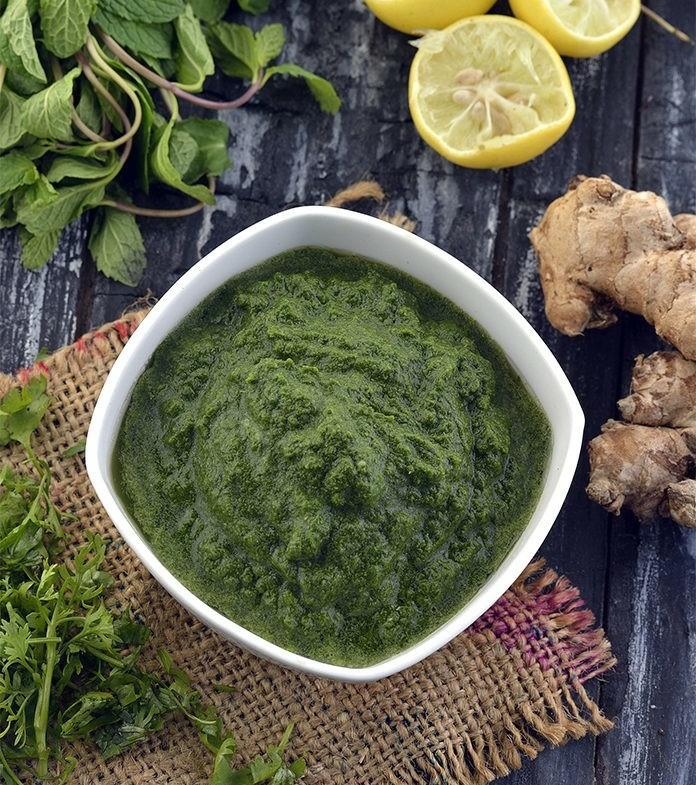GreenChutney: (114, 244, 556, 667)
